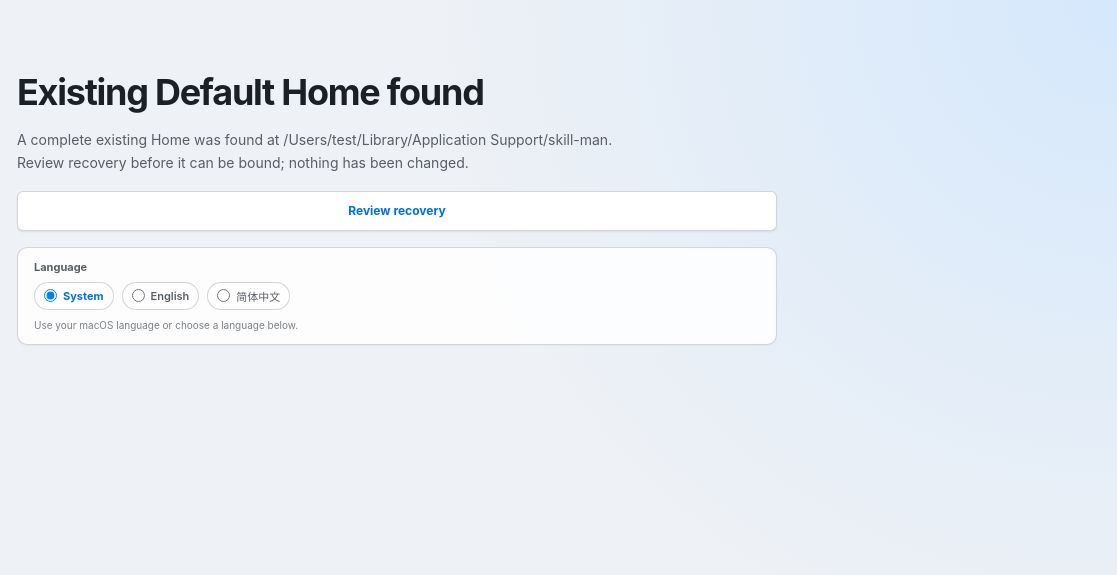
Test: default recovery offer is reviewed explicitly and cancelling returns to the same offer
This screenshot has width=1117, height=575.
Expected: the heading "Existing Default Home found" is shown, [17, 70, 484, 114]
Click the button "Review recovery": {"x": 397, "y": 210} [17, 190, 777, 230]
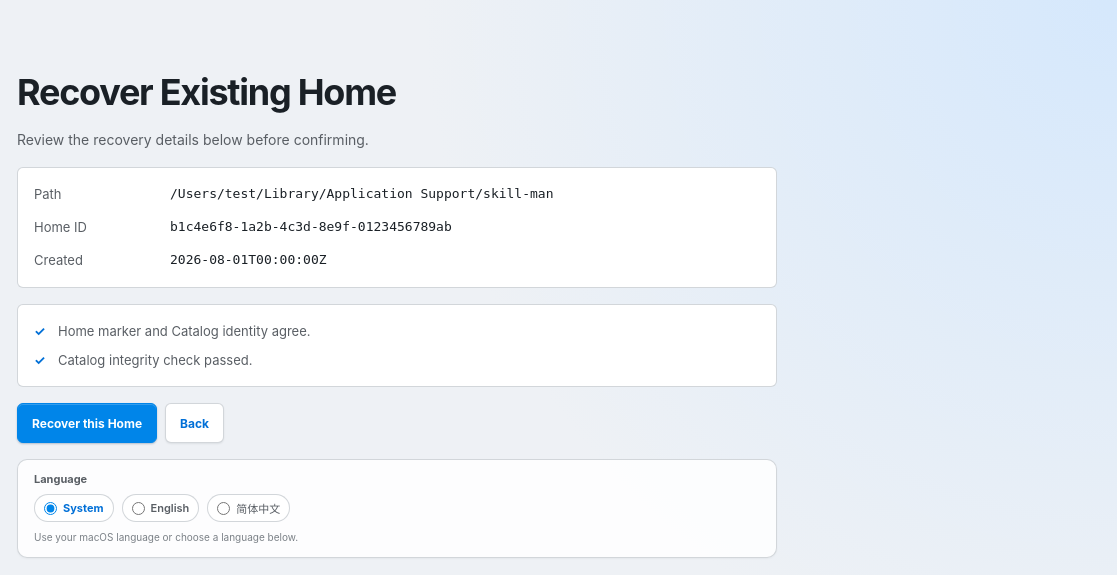
Now the heading "Recover Existing Home" is shown, box [17, 70, 396, 114]
Click the button "Back": {"x": 195, "y": 423} [165, 403, 224, 443]
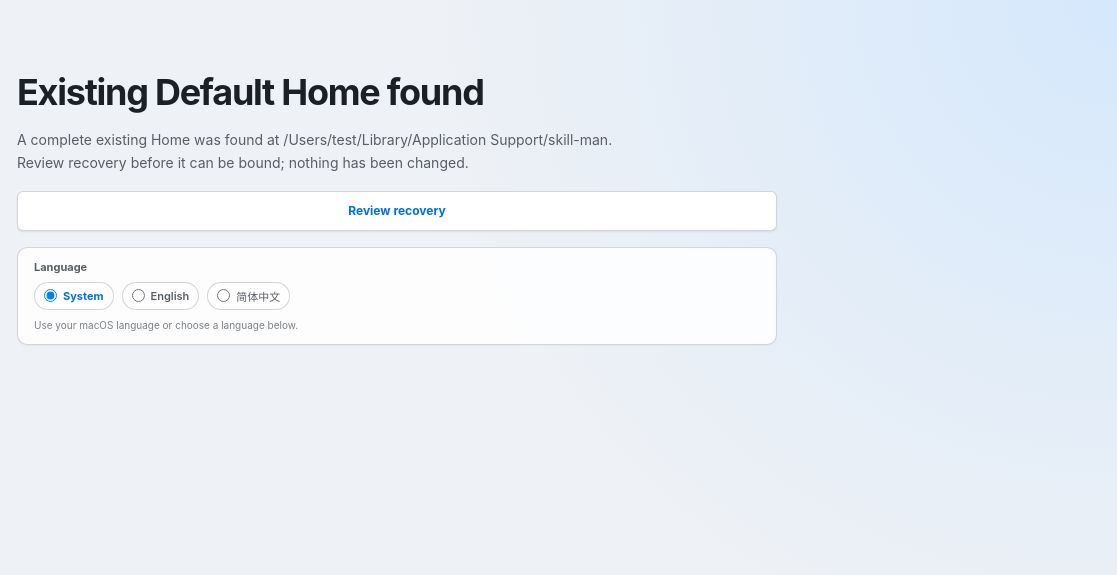
Now the heading "Existing Default Home found" is shown, box [17, 70, 484, 114]
